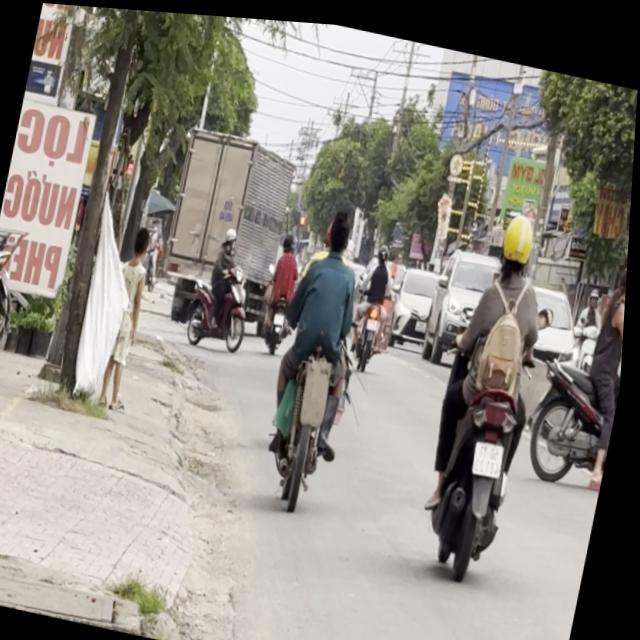helmet: (497, 201, 544, 271)
licenseplate: (414, 191, 572, 578), (255, 192, 391, 513), (517, 231, 631, 503)
motorcyclist: (326, 201, 359, 251), (614, 251, 630, 294)
nohelmet: (476, 431, 510, 471)
